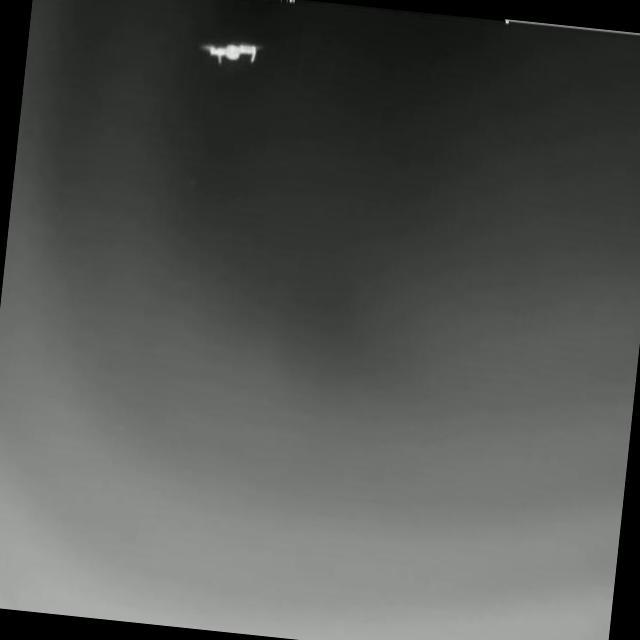DRONE: (200, 39, 263, 66)
